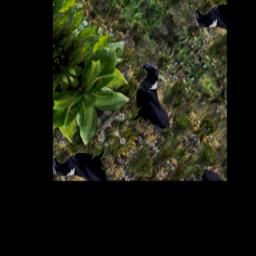Crow: (110, 56, 190, 146)
